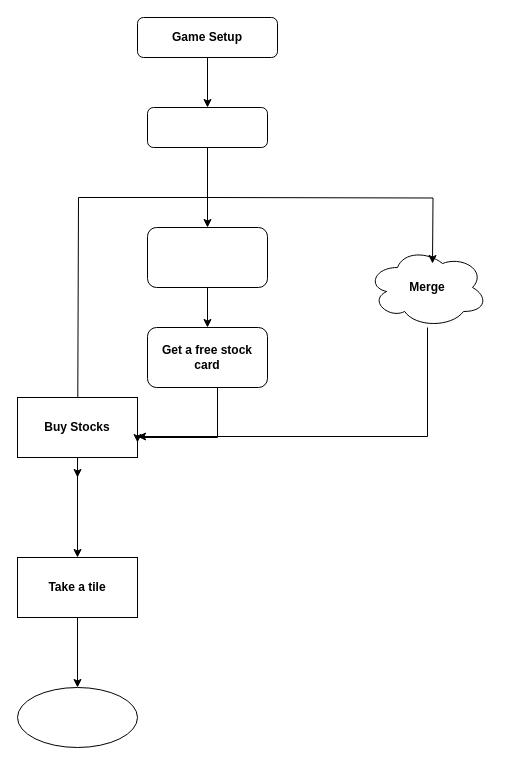
Image size: 505x765. Some labels were removed from this diagram. Here are the shapes that lost their labels. From the top down, the centre of each, then its label:
pixel 207 127: Place a tile
pixel 207 257: Found a hotel
pixel 77 717: End of his/her turn
